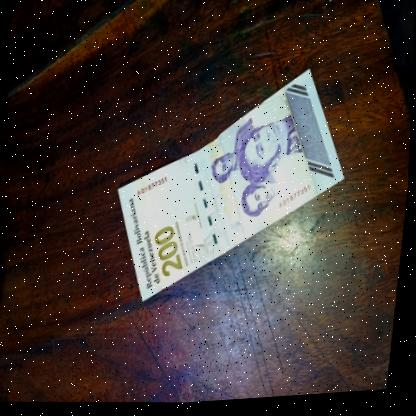two_hundred-front-vef: (107, 57, 358, 320)
